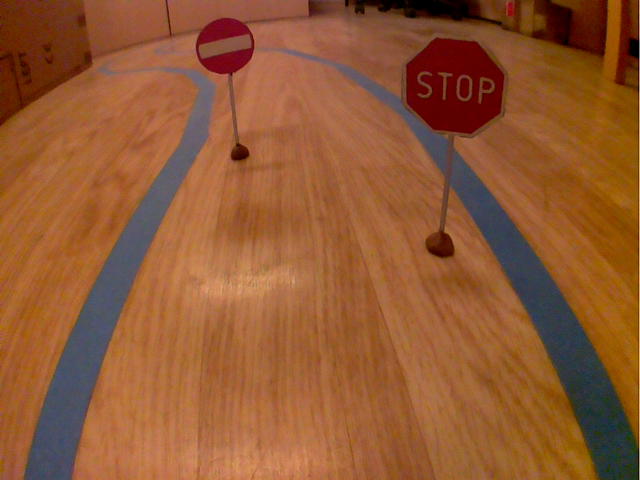Stop: (397, 31, 512, 143)
Zakaz: (193, 15, 258, 78)
